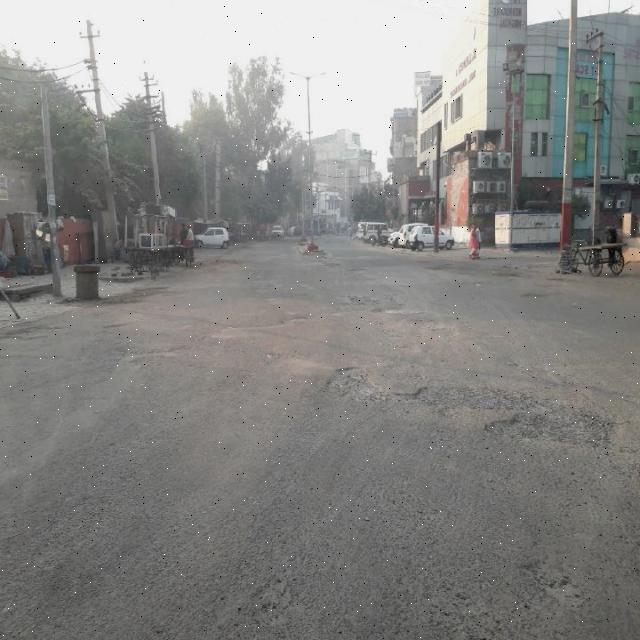D40: (233, 514, 640, 639), (298, 337, 636, 467)
